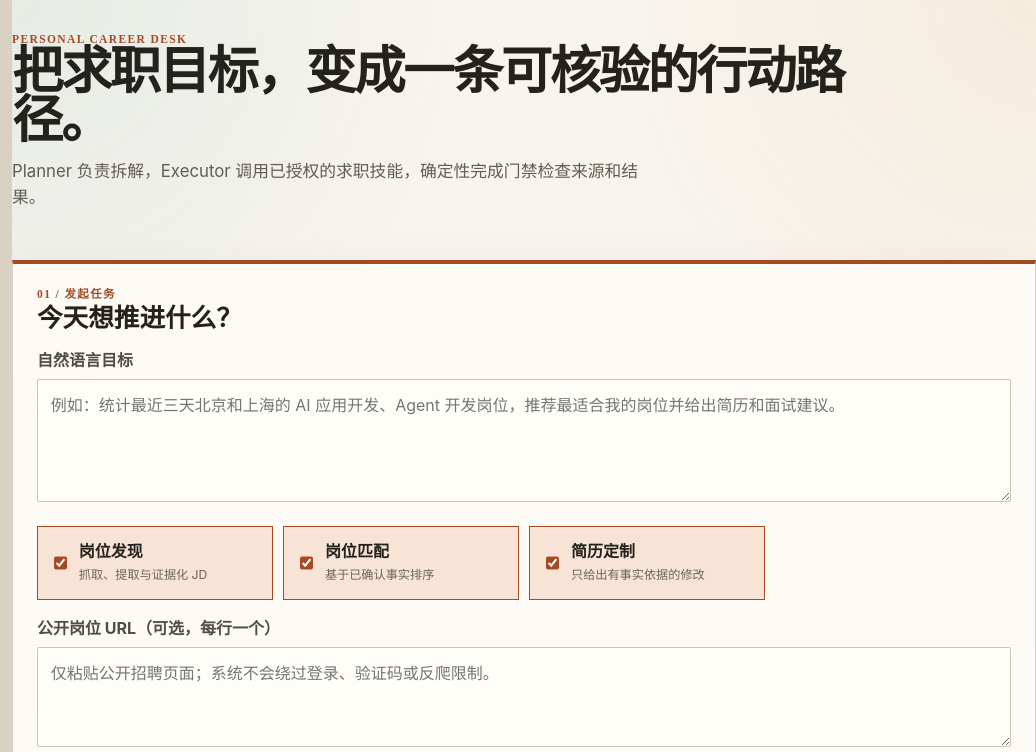
AgentWorkspace › surfaces a non-harness API error with its own message
The image size is (1036, 752).
Type "找岗位" into the text box named "goal" at x=524, y=441, box [37, 379, 1011, 502]
(page scrolled)
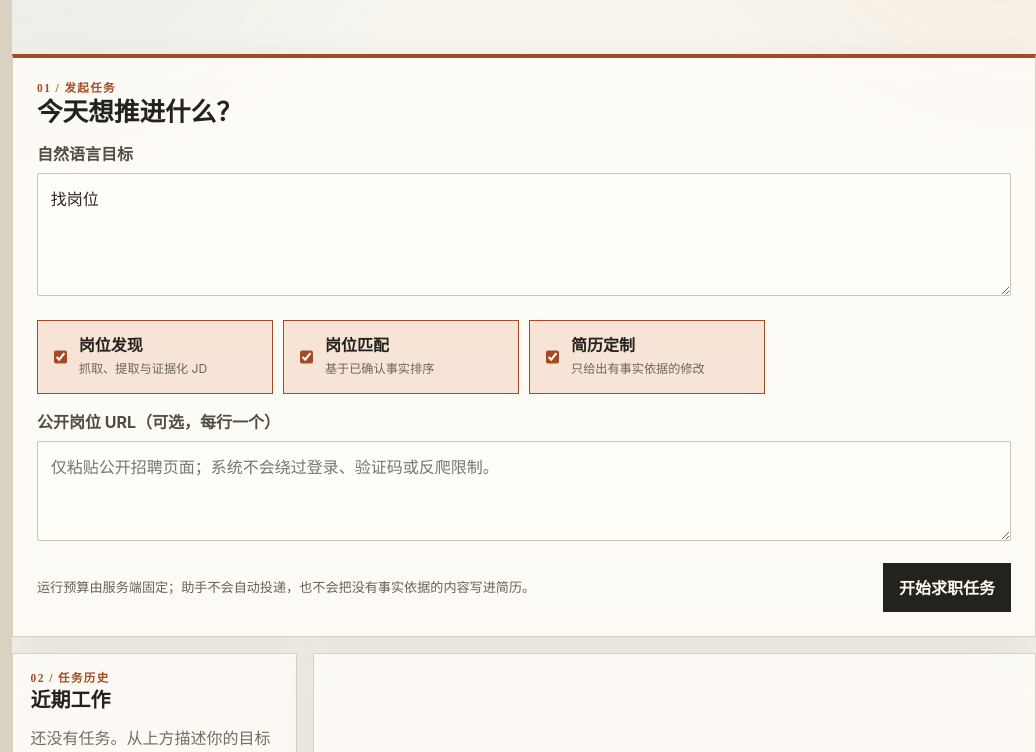
Submit the form, box [37, 142, 1011, 612]
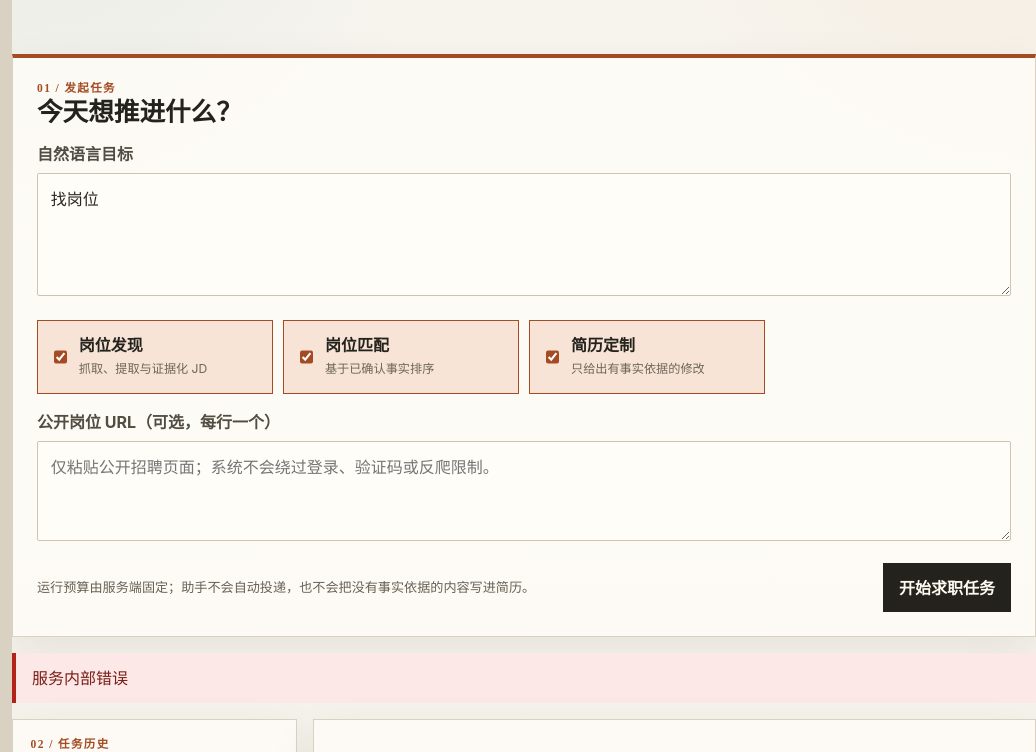
expect the text "服务内部错误" is shown: met, box [12, 653, 1035, 703]
